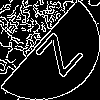Z: (25, 25, 85, 78)
